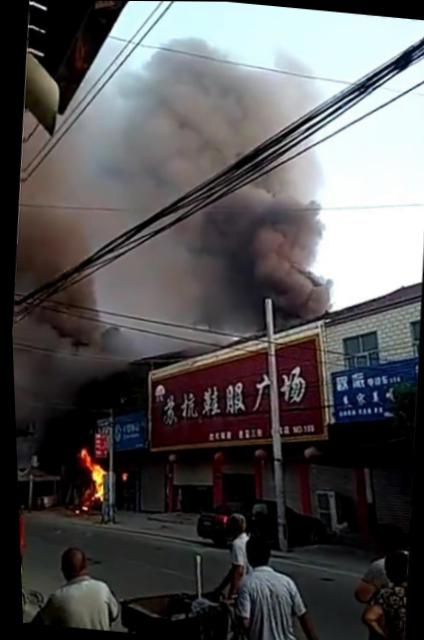fire: (84, 461, 102, 500), (73, 448, 90, 467)
